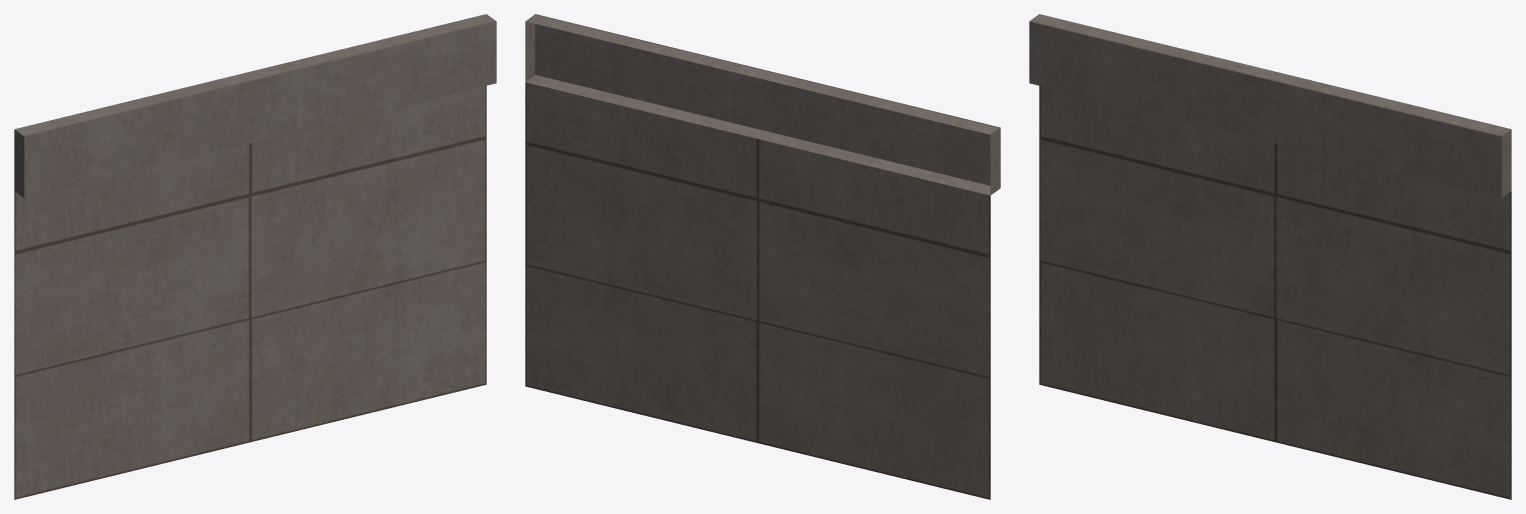
File: House_02_Wall_04.fbx
The picture shows the model from 3 angles, left to right: view 1: azimuth 30°, elevation 25°; view 2: azimuth 150°, elevation 25°; view 3: azimuth 330°, elevation 25°; orthographic projection.
Visible parts, largest first — view 1: House_02_Wall_04; view 2: House_02_Wall_04; view 3: House_02_Wall_04.
Part boxes in pixels (bbox=[...]): House_02_Wall_04: bbox=[14, 14, 496, 499]; House_02_Wall_04: bbox=[525, 14, 1000, 499]; House_02_Wall_04: bbox=[1029, 14, 1511, 499].
Bounding box in the file's own units: 200 × 150 × 7.5.
